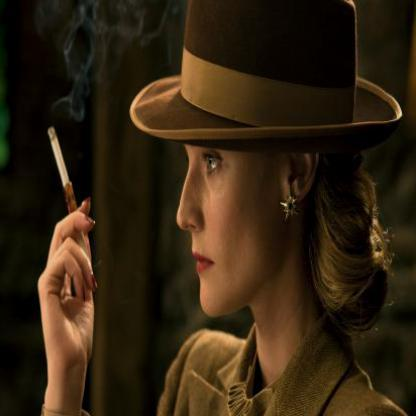cigarette: (48, 122, 70, 192)
person: (172, 123, 388, 415)
